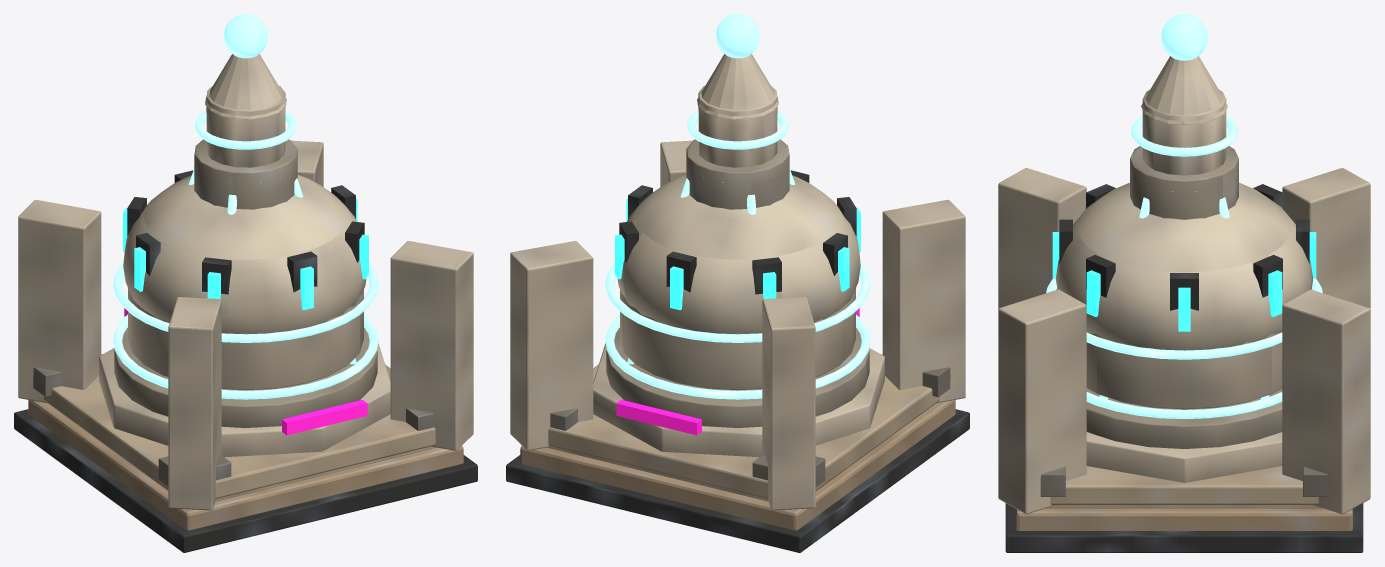
The picture shows the model from 3 angles, left to right: view 1: azimuth 30°, elevation 25°; view 2: azimuth 150°, elevation 25°; view 3: azimuth 270°, elevation 25°; orthographic projection. The views are drawn at different scales.
Visible parts, largest first — view 1: Sandwar3D; view 2: Sandwar3D; view 3: Sandwar3D.
Boxes of the visible parts, x1,y1,x2,y2 form: Sandwar3D: (14,14,477,552); Sandwar3D: (506,14,969,552); Sandwar3D: (998,14,1370,552).
Bounding box in the file's own units: 2.03 × 2.8 × 2.04.
Materials: 11 (10 with a texture image).
